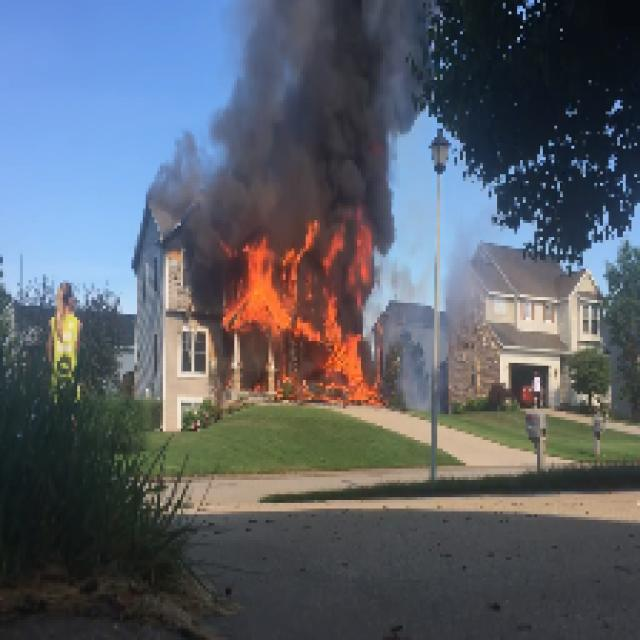Fire: (223, 242, 314, 328), (326, 291, 366, 400)
Smoke: (208, 3, 428, 200), (377, 208, 432, 406), (146, 128, 208, 212)
